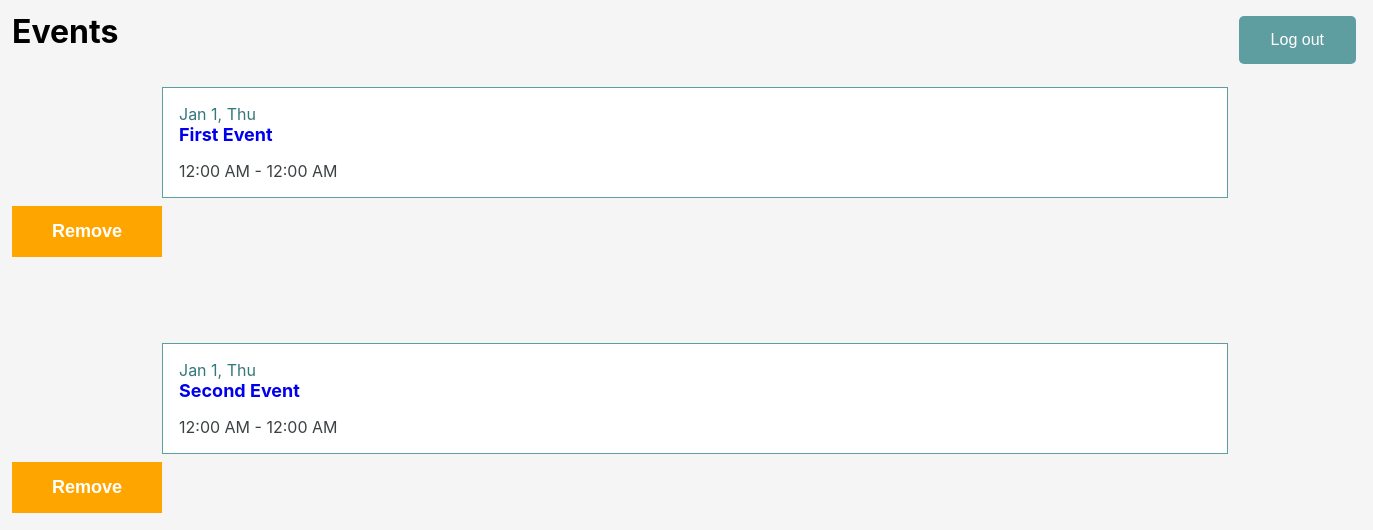
Test case: EventList › deleting an event › when the delete succeeds › when an event is removed, reload the events
Step 1. Click the button "Remove" below "First Event" → (87, 232), box x1=12 y1=206 x2=162 y2=257
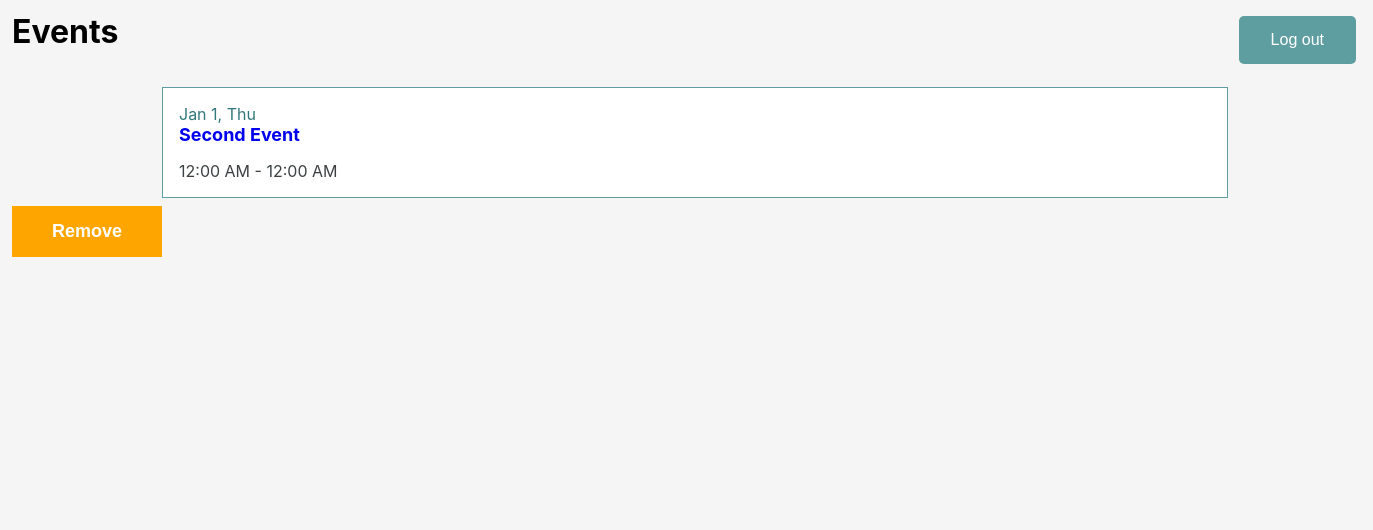
Check: the text "Second Event" is shown, box x1=179 y1=124 x2=300 y2=145
Check: the link "First Event" is gone
